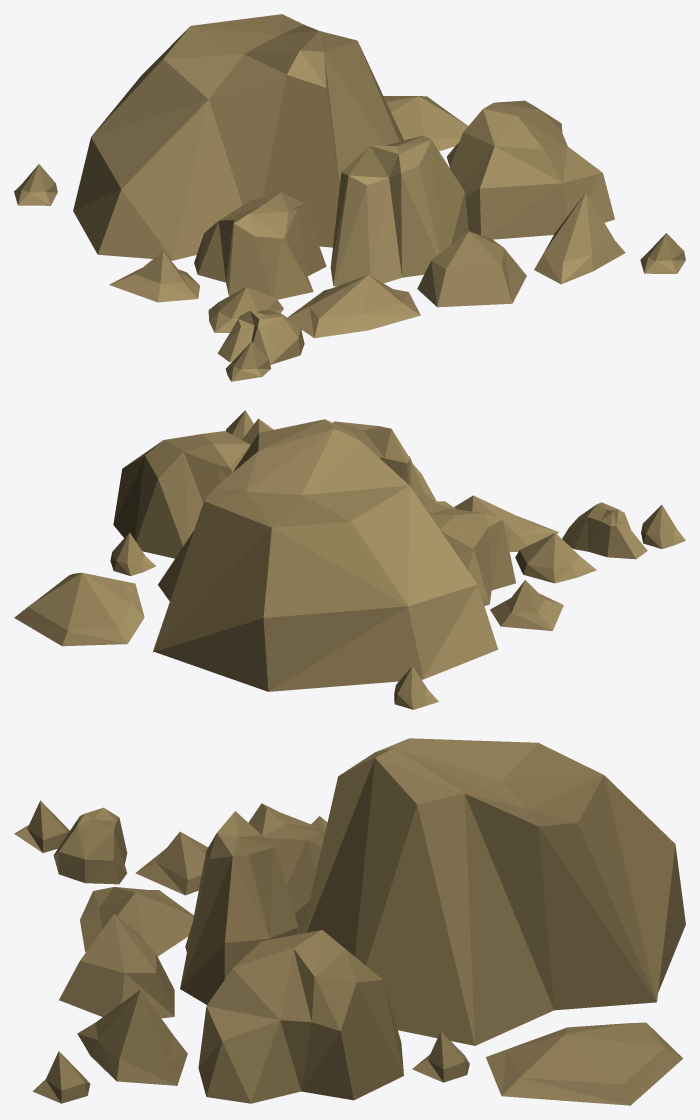
The model's file is dsrock1.fbx.
3 renders of one model, top to bottom at view 1: azimuth 30°, elevation 25°; view 2: azimuth 150°, elevation 25°; view 3: azimuth 270°, elevation 25°, orthographic. The views are drawn at different scales.
Parts seen in each view (by area): view 1: Object Rockslide 2024-03-16_08-17-55; view 2: Object Rockslide 2024-03-16_08-17-55; view 3: Object Rockslide 2024-03-16_08-17-55.
Part boxes in pixels (bbox=[...]): Object Rockslide 2024-03-16_08-17-55: bbox=[14, 14, 685, 381]; Object Rockslide 2024-03-16_08-17-55: bbox=[14, 410, 685, 709]; Object Rockslide 2024-03-16_08-17-55: bbox=[14, 738, 685, 1105].
Size of the model in its own units: 24800 by 9200 by 25500.
